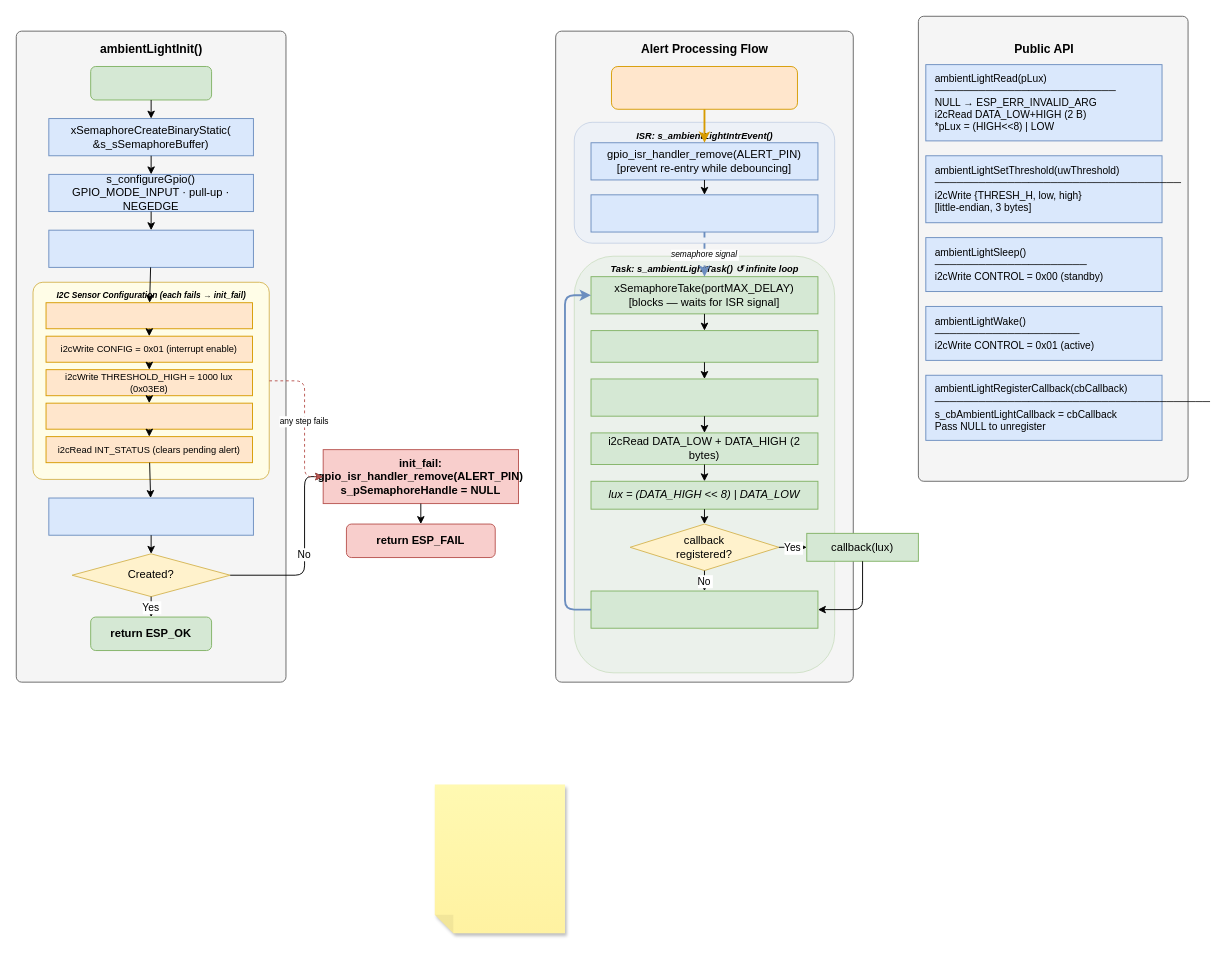
Image size: 1227x956. Some labels were removed from this diagram. Here are the shapes that lost their labels. From the top down, the centre of each, then its label:
point 151,83: START
point 704,87: ⚡ ALERT pin goes LOW (sensor reading > threshold)
point 704,213: xSemaphoreGiveFromISR(s_pSemaphoreHandle) portYIELD_FROM_ISR() if task woken
point 150,248: gpio_isr_handler_add( ALERT_PIN, s_ambientLightIntrEvent)
point 148,315: i2cWrite CONTROL = 0x01 (active mode)
point 704,346: vTaskDelay(30 ms) — debounce
point 148,415: i2cWrite THRESHOLD_LOW = 0x0000
point 704,397: i2cRead INT_STATUS (1 byte) → reading clears ALERT pin
point 150,516: xTaskCreatePinnedToCore( task, "ambient_light", 2560, prio=5, core=1)
point 704,609: gpio_isr_handler_add(ALERT_PIN, ISR) [re-enable interrupt]
